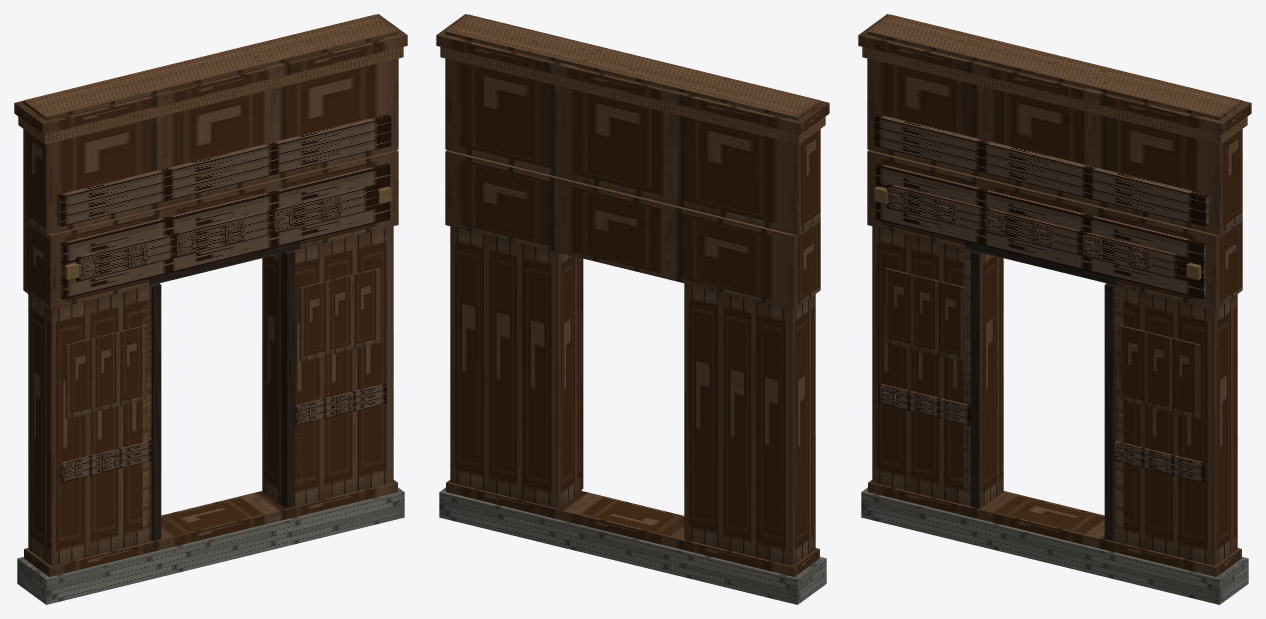
The model's file is ae_duel_wood_door_frame_lod0.glb.
The picture shows the model from 3 angles, left to right: view 1: azimuth 30°, elevation 25°; view 2: azimuth 150°, elevation 25°; view 3: azimuth 330°, elevation 25°; orthographic projection.
Parts seen in each view (by area): view 1: ae_duel_wood_door_frame_lod0; view 2: ae_duel_wood_door_frame_lod0; view 3: ae_duel_wood_door_frame_lod0.
Boxes of the visible parts, <box> form: ae_duel_wood_door_frame_lod0: <box>14,14,407,604</box>; ae_duel_wood_door_frame_lod0: <box>436,14,829,604</box>; ae_duel_wood_door_frame_lod0: <box>858,14,1251,604</box>.
Bounding box in the file's own units: 3.62 × 4.6 × 0.57.
1 material, 1 textured.
